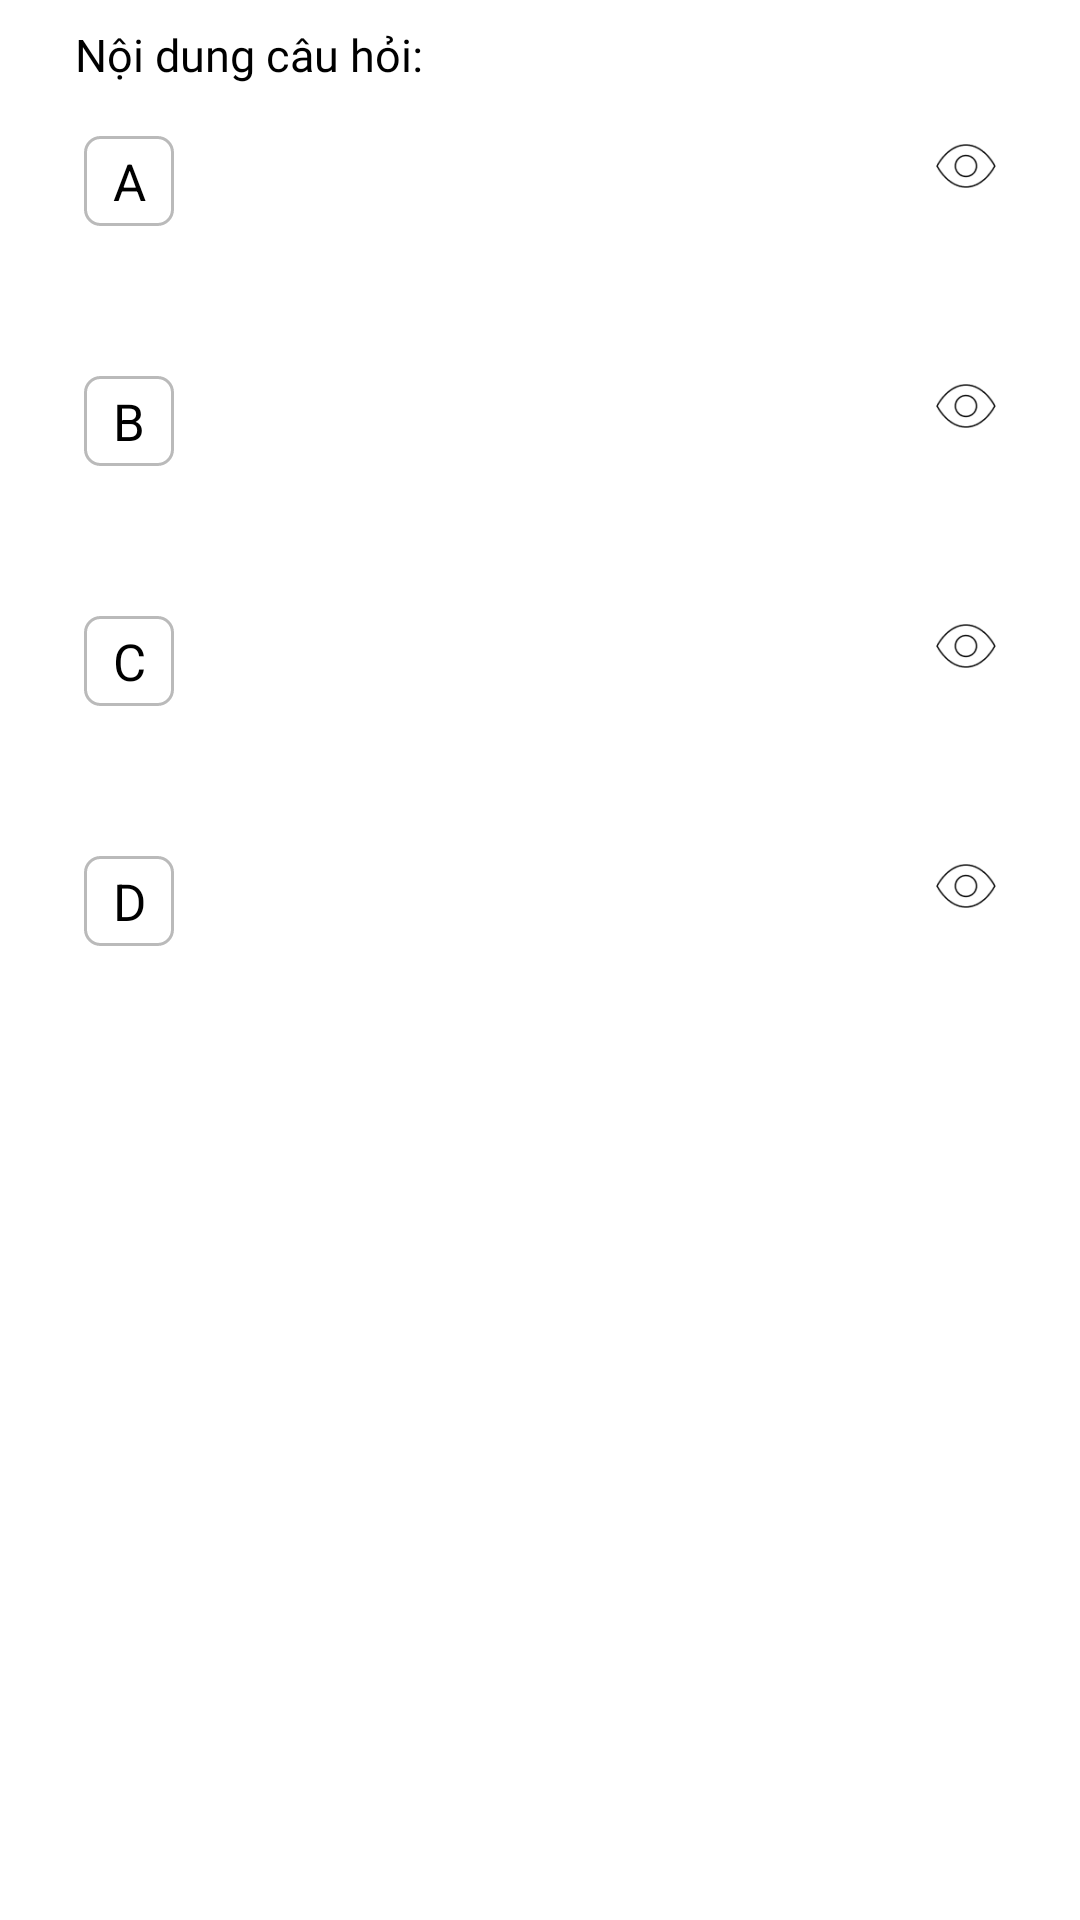

Where to tap for icons on this 1080 x 1920 app screen, as (x,y):
visibility: (966,166), (966,406), (966,646), (966,886)
